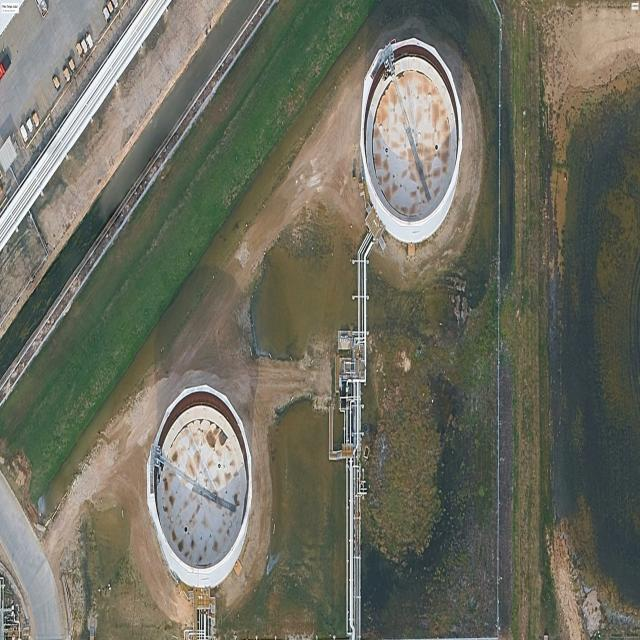Oil Rafinery: (146, 385, 252, 587), (360, 38, 462, 243)
